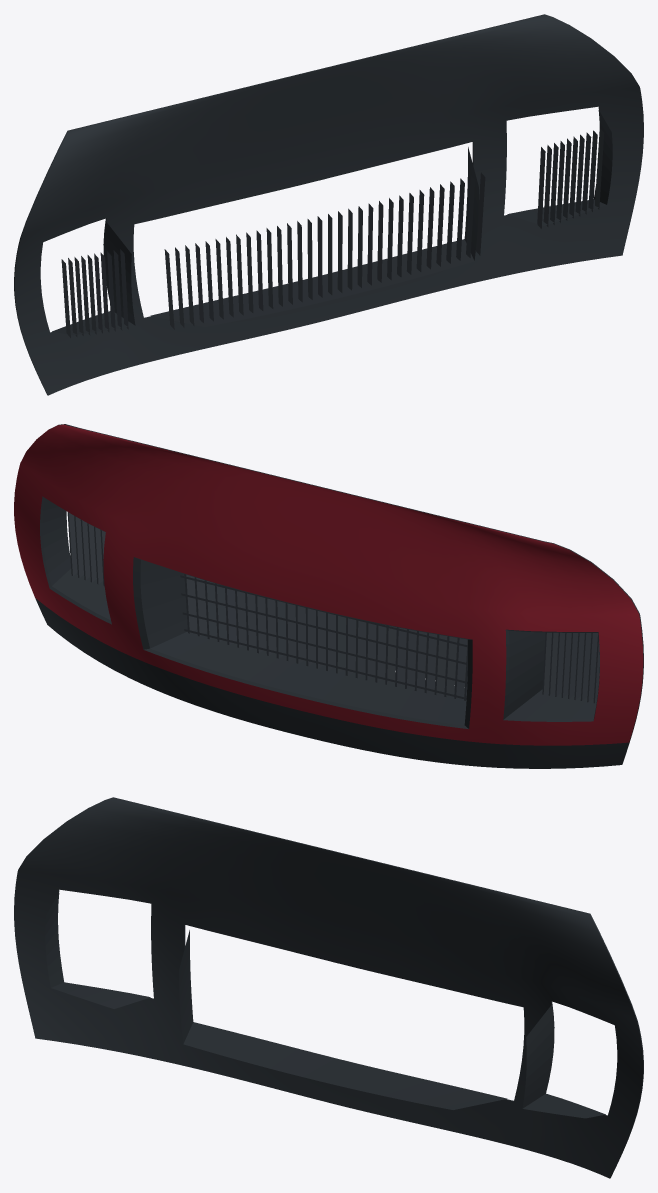
Rendered from fascia_lod0.gltf.
The picture shows the model from 3 angles, top to bottom: view 1: azimuth 30°, elevation 25°; view 2: azimuth 150°, elevation 25°; view 3: azimuth 330°, elevation 25°; orthographic projection.
Parts seen in each view (by area): view 1: BumperCover, GrilleAndCore, DuctReturns; view 2: BumperCover, DuctReturns, GrilleAndCore; view 3: BumperCover, DuctReturns.
Part boxes in pixels (x1,y1,x2,y2): BumperCover: (14,14,643,395); GrilleAndCore: (61,128,604,337); DuctReturns: (52,110,612,335); BumperCover: (14,424,643,768); DuctReturns: (40,496,599,728); GrilleAndCore: (67,512,599,703); BumperCover: (14,797,643,1178); DuctReturns: (45,893,605,1118).
Bounding box in the file's own units: 2.07 × 0.794 × 0.2409.
